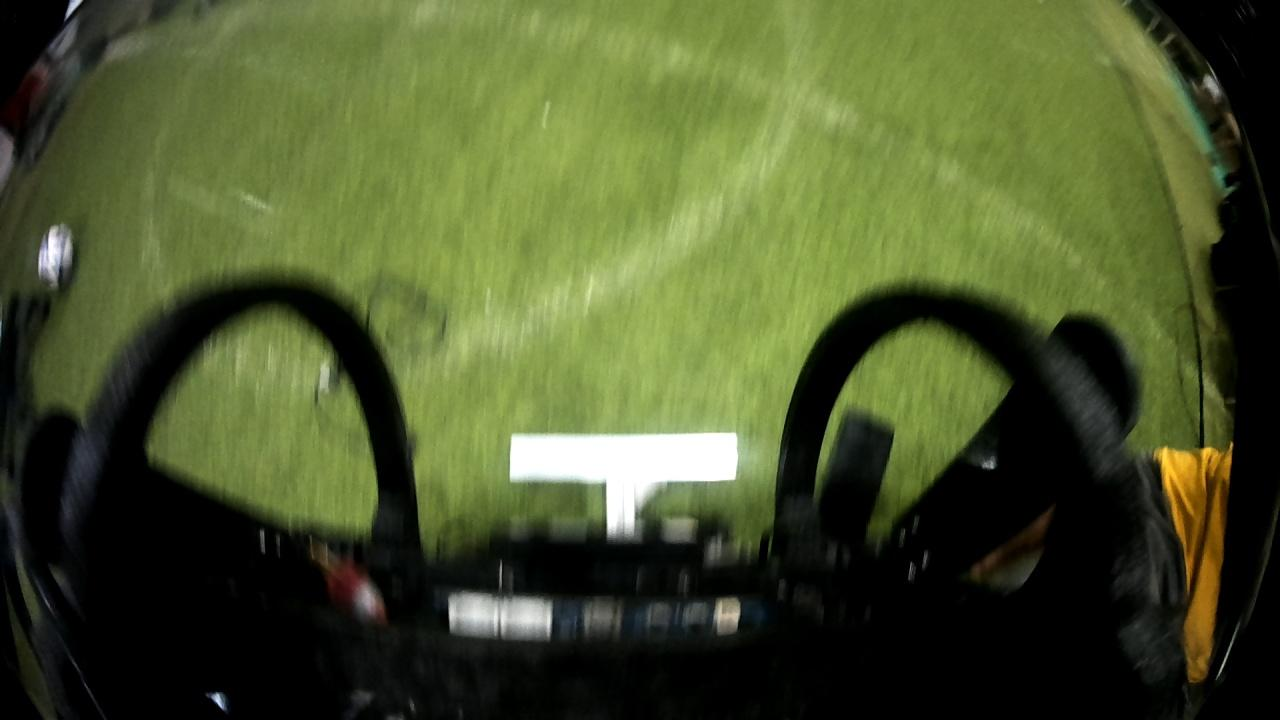ball: (30, 216, 75, 302)
